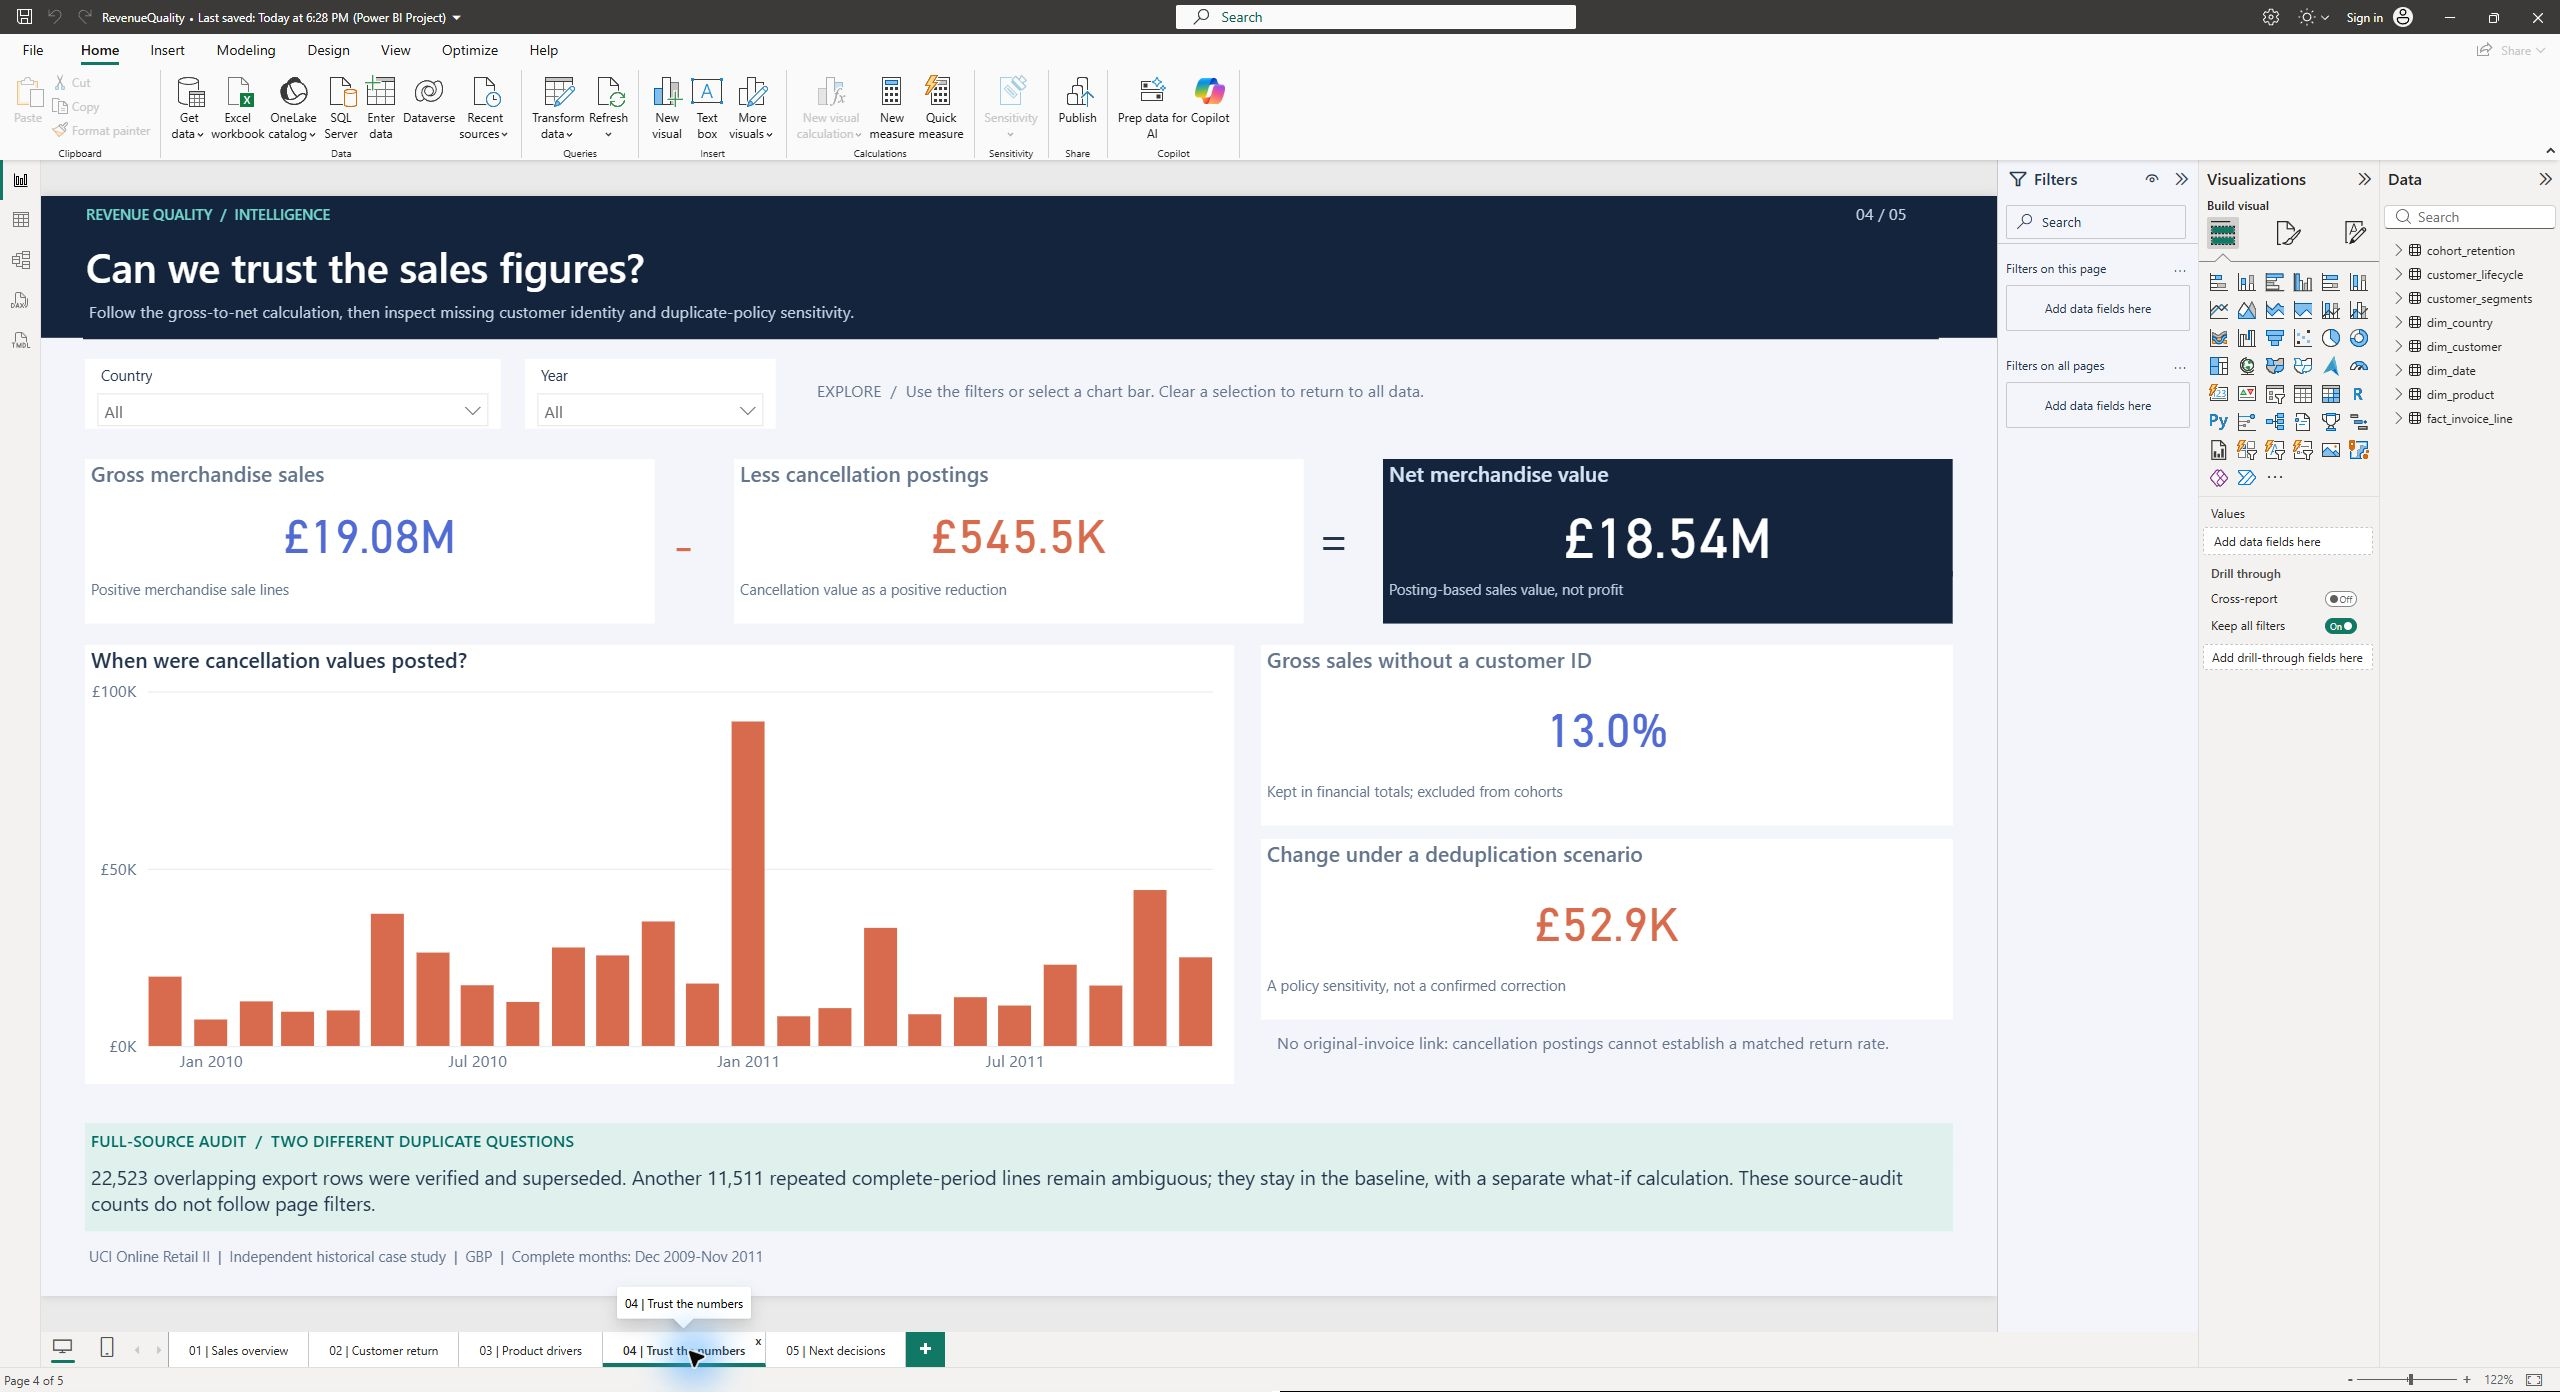

The page's visual inventory and layout, read from the dashboard file:
{"tool":"powerbi","page":{"name":"04 | Trust the numbers","canvas":[1600,900],"ordinal":3},"visuals":[{"type":"textbox","box":[0,0,1600,116],"z":61},{"type":"textbox","box":[32,0,1000,35.5],"z":62},{"type":"textbox","box":[32,30,1515,61],"z":63},{"type":"textbox","box":[34,80,1518,37],"z":64},{"type":"textbox","box":[1480,0,92,37],"z":65},{"type":"textbox","box":[34,852,1530,36],"z":66},{"type":"slicer","fields":{"Values":["dim_country.country_key"]},"box":[36,133,340,57],"z":67},{"type":"slicer","fields":{"Values":["dim_date.calendar_year"]},"box":[396,133,205,57],"z":68},{"type":"textbox","box":[630,145,790,37],"z":69},{"type":"card","title":"Gross merchandise sales","fields":{"Values":["fact_invoice_line.Gross Sales GBP"]},"box":[36,215,466,96],"z":70},{"type":"textbox","box":[36,307,466,43],"z":71},{"type":"textbox","box":[512,250,45,70],"z":72},{"type":"card","title":"Less cancellation postings","fields":{"Values":["fact_invoice_line.Cancellation Postings GBP"]},"box":[567,215,466,96],"z":73},{"type":"textbox","box":[567,307,466,43],"z":74},{"type":"textbox","box":[1040,250,45,65],"z":75},{"type":"card","title":"Net merchandise value","fields":{"Values":["fact_invoice_line.Net Merchandise GBP"]},"box":[1098,215,466,96],"z":76},{"type":"textbox","box":[1098,307,466,43],"z":77},{"type":"clusteredColumnChart","title":"When were cancellation values posted?","fields":{"Category":["dim_date.month_start"],"Y":["fact_invoice_line.Cancellation Postings GBP"]},"box":[36,367,940,359],"z":78},{"type":"card","title":"Gross sales without a customer ID","fields":{"Values":["fact_invoice_line.Anonymous Gross Share"]},"box":[998,367,566,109],"z":79},{"type":"textbox","box":[998,472,566,43],"z":80},{"type":"card","title":"Change under a deduplication scenario","fields":{"Values":["fact_invoice_line.Duplicate Sensitivity GBP"]},"box":[998,526,566,109],"z":81},{"type":"textbox","box":[998,631,566,43],"z":82},{"type":"textbox","box":[1006,678,550,49],"z":83},{"type":"textbox","box":[36,758,1528,37],"z":84},{"type":"textbox","box":[36,787,1528,60],"z":85}]}

Visuals, with their boxes on the page's 1600x900 design canvas (x1, y1, x2, y2). These are canvas units, not pixel positions in the 2560x1392 screenshot, which may show the page scaled, cropped or inside an application window:
textbox: {"left": 0, "top": 0, "right": 1600, "bottom": 116}
textbox: {"left": 32, "top": 0, "right": 1032, "bottom": 36}
textbox: {"left": 32, "top": 30, "right": 1547, "bottom": 91}
textbox: {"left": 34, "top": 80, "right": 1552, "bottom": 117}
textbox: {"left": 1480, "top": 0, "right": 1572, "bottom": 37}
textbox: {"left": 34, "top": 852, "right": 1564, "bottom": 888}
slicer - dim_country.country_key: {"left": 36, "top": 133, "right": 376, "bottom": 190}
slicer - dim_date.calendar_year: {"left": 396, "top": 133, "right": 601, "bottom": 190}
textbox: {"left": 630, "top": 145, "right": 1420, "bottom": 182}
"Gross merchandise sales" card: {"left": 36, "top": 215, "right": 502, "bottom": 311}
textbox: {"left": 36, "top": 307, "right": 502, "bottom": 350}
textbox: {"left": 512, "top": 250, "right": 557, "bottom": 320}
"Less cancellation postings" card: {"left": 567, "top": 215, "right": 1033, "bottom": 311}
textbox: {"left": 567, "top": 307, "right": 1033, "bottom": 350}
textbox: {"left": 1040, "top": 250, "right": 1085, "bottom": 315}
"Net merchandise value" card: {"left": 1098, "top": 215, "right": 1564, "bottom": 311}
textbox: {"left": 1098, "top": 307, "right": 1564, "bottom": 350}
"When were cancellation values posted?" clusteredColumnChart: {"left": 36, "top": 367, "right": 976, "bottom": 726}
"Gross sales without a customer ID" card: {"left": 998, "top": 367, "right": 1564, "bottom": 476}
textbox: {"left": 998, "top": 472, "right": 1564, "bottom": 515}
"Change under a deduplication scenario" card: {"left": 998, "top": 526, "right": 1564, "bottom": 635}
textbox: {"left": 998, "top": 631, "right": 1564, "bottom": 674}
textbox: {"left": 1006, "top": 678, "right": 1556, "bottom": 727}
textbox: {"left": 36, "top": 758, "right": 1564, "bottom": 795}
textbox: {"left": 36, "top": 787, "right": 1564, "bottom": 847}
